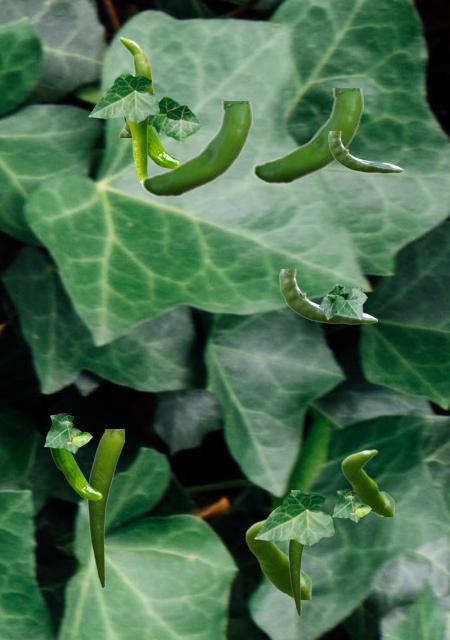green_chili: (252, 88, 362, 184), (141, 101, 251, 197), (87, 429, 123, 587), (123, 74, 180, 168), (245, 516, 310, 598), (279, 269, 376, 323), (49, 424, 101, 499), (118, 36, 153, 136), (341, 449, 393, 515), (328, 131, 402, 172), (125, 117, 149, 184), (288, 540, 304, 615)
